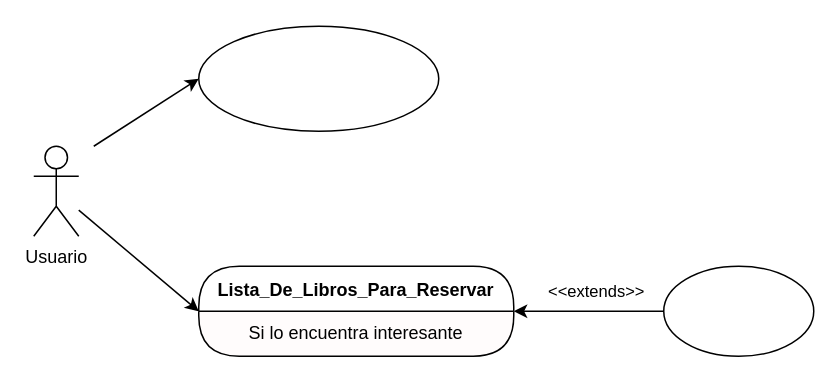
Some shapes in this 840 by 383 pixel diagram are drawn without their labels. The shapes that lost their labels are listed below. From the top down, each one's centre as x and y in pixels, then its label:
At (318,78): "Ver_Historial_De_Reservas".
At (738,310): "Reservar".
